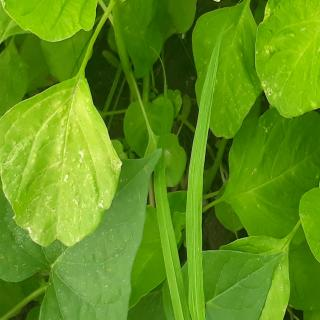karat_putih: (0, 76, 123, 251), (194, 13, 270, 142), (249, 1, 320, 121), (0, 102, 2, 172)
